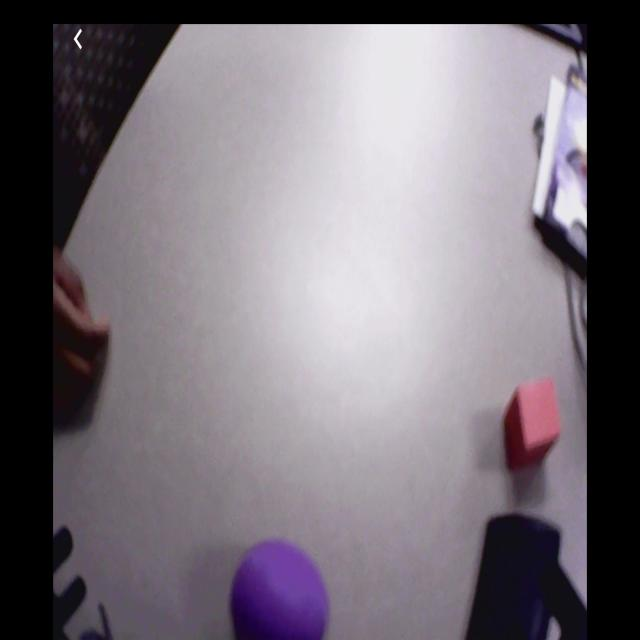ball: (231, 541, 330, 640)
